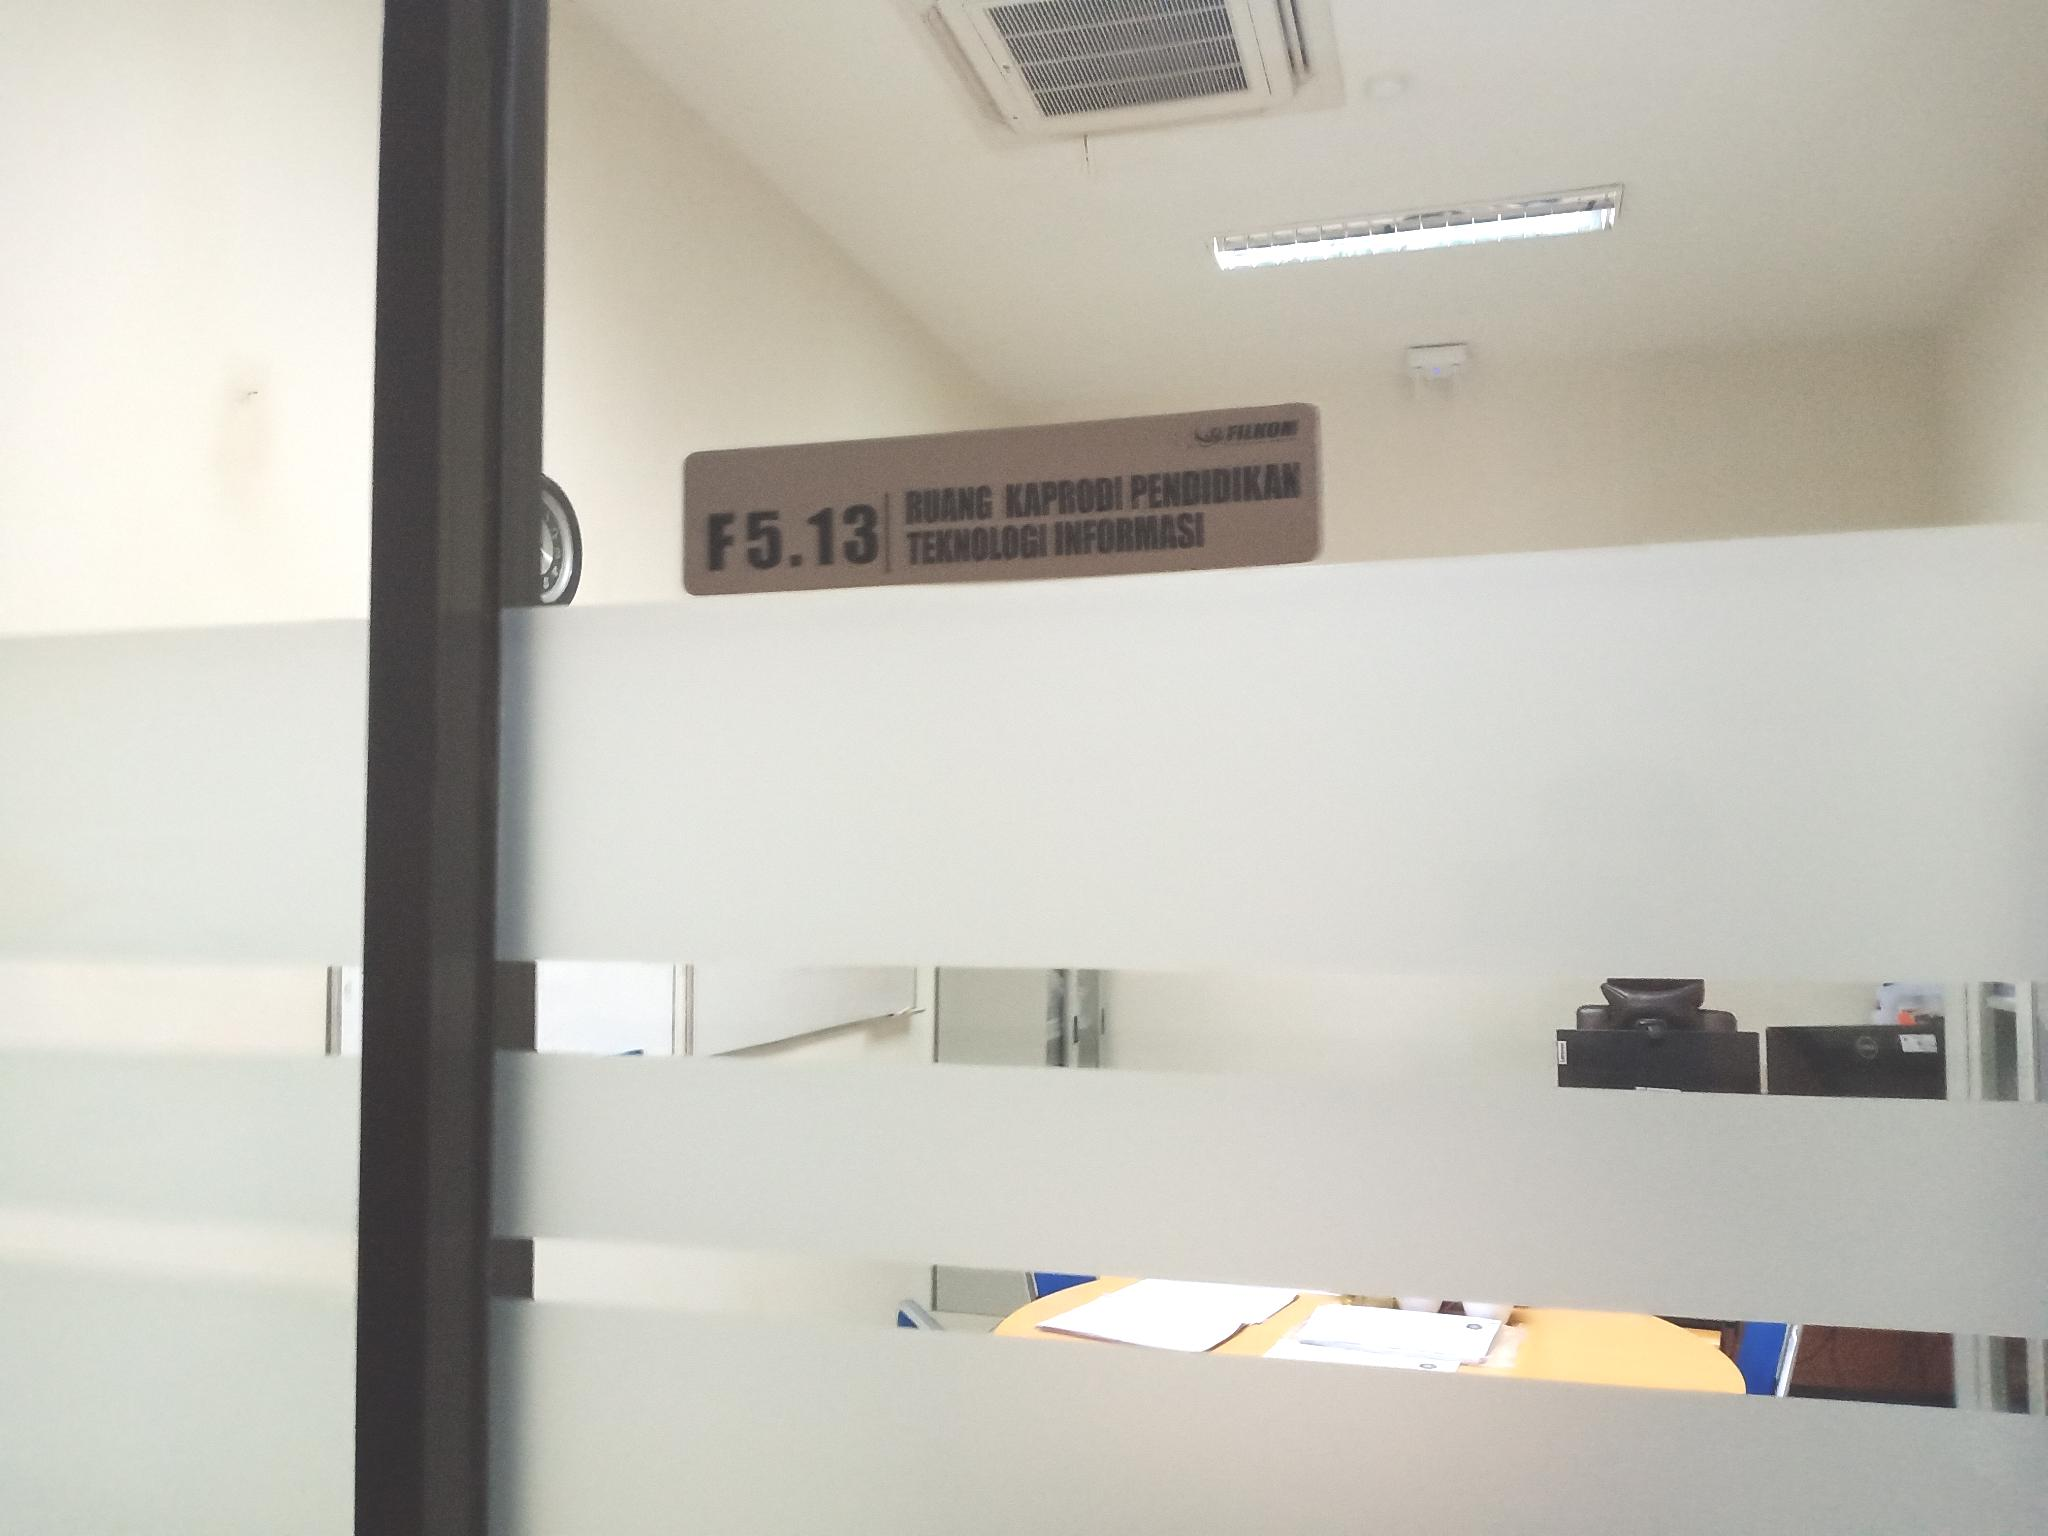plate: (682, 399, 1322, 599)
